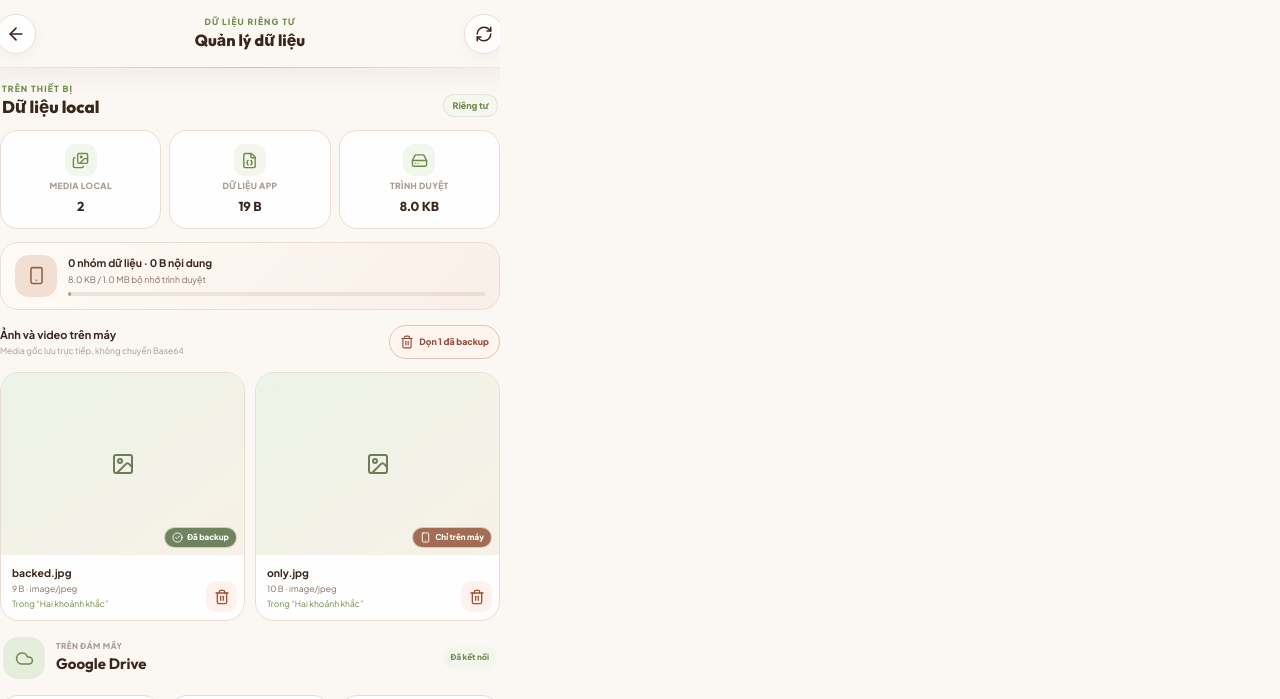
it: GoogleDriveDataView › keeps local-only media during bulk cleanup and removes it from the timeline only after explicit confirmation
Expected: the text "backed.jpg" is shown, [12, 566, 72, 579]
Click the button "Dọn 1 đã backup".
click(445, 342)  # box [389, 325, 500, 359]
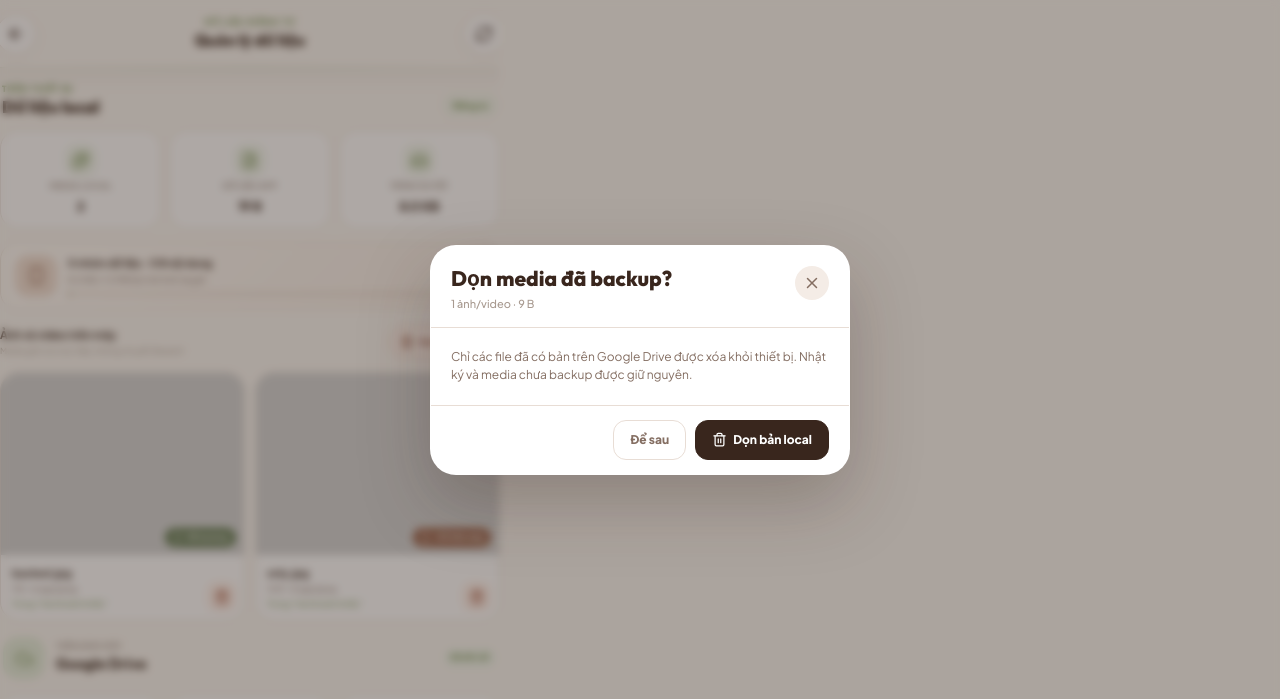
Click the button "Dọn bản local".
click(762, 440)  # box [695, 420, 829, 460]
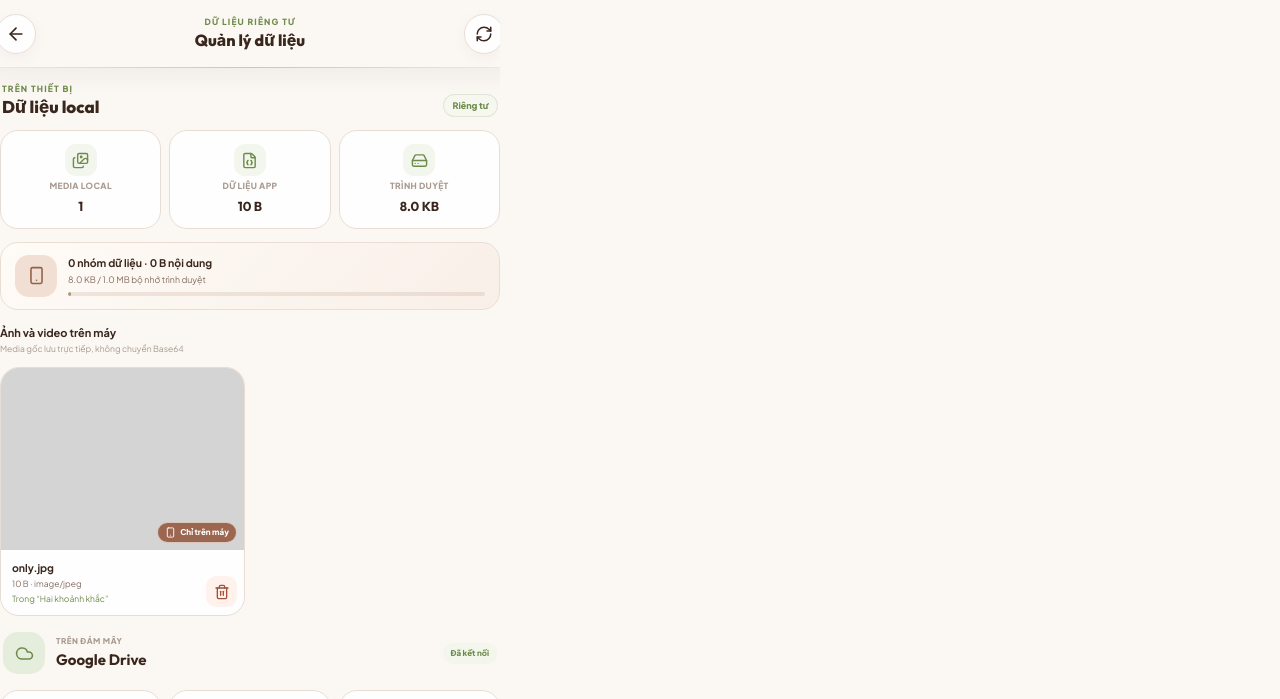
Expected: the text "backed.jpg" is gone
Click the button named "Xóa bản local only.jpg".
click(222, 592)  # box [206, 576, 237, 607]
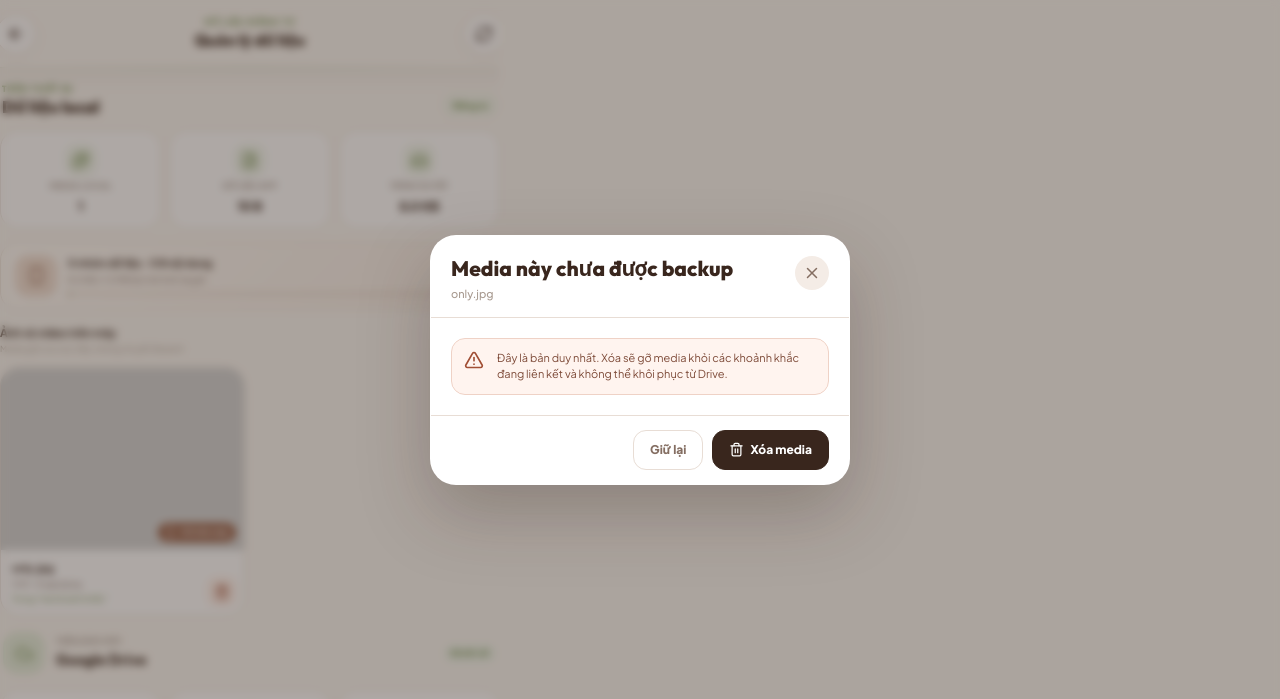
Expected: the dialog "Media này chưa được backup" is shown, [430, 235, 850, 485]
Click the button "Xóa media".
click(771, 450)  # box [712, 430, 829, 470]
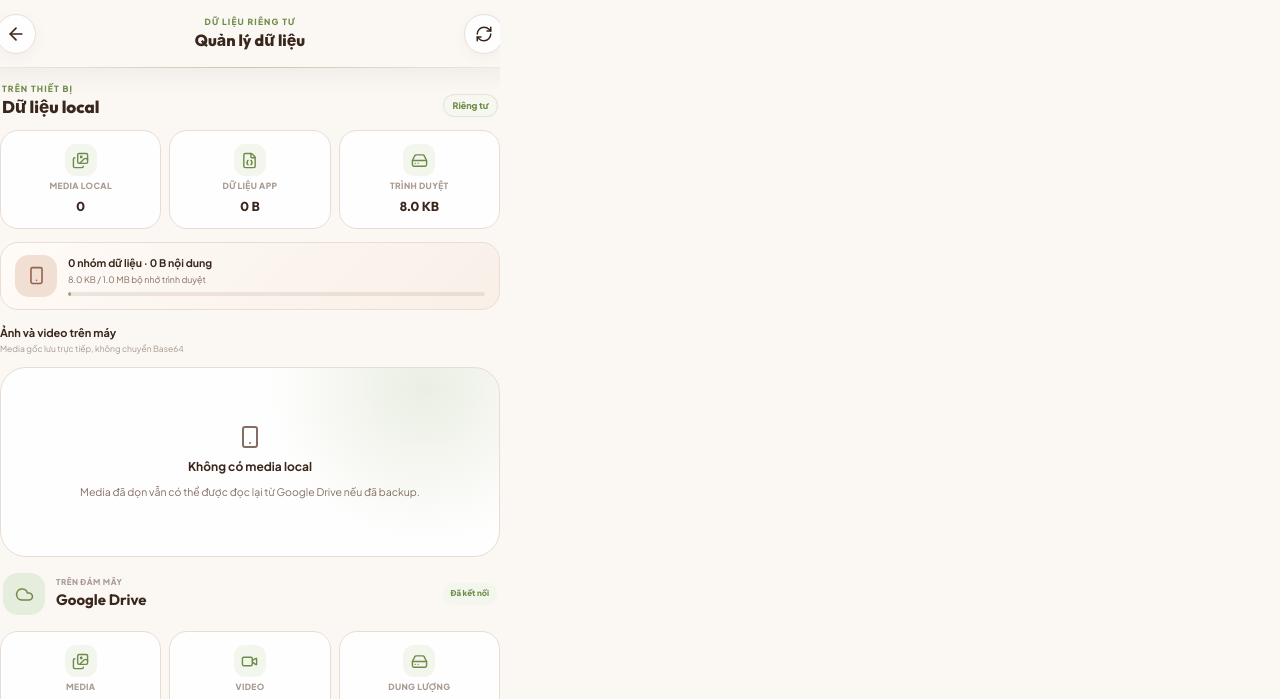
Expected: the text "only.jpg" is gone
